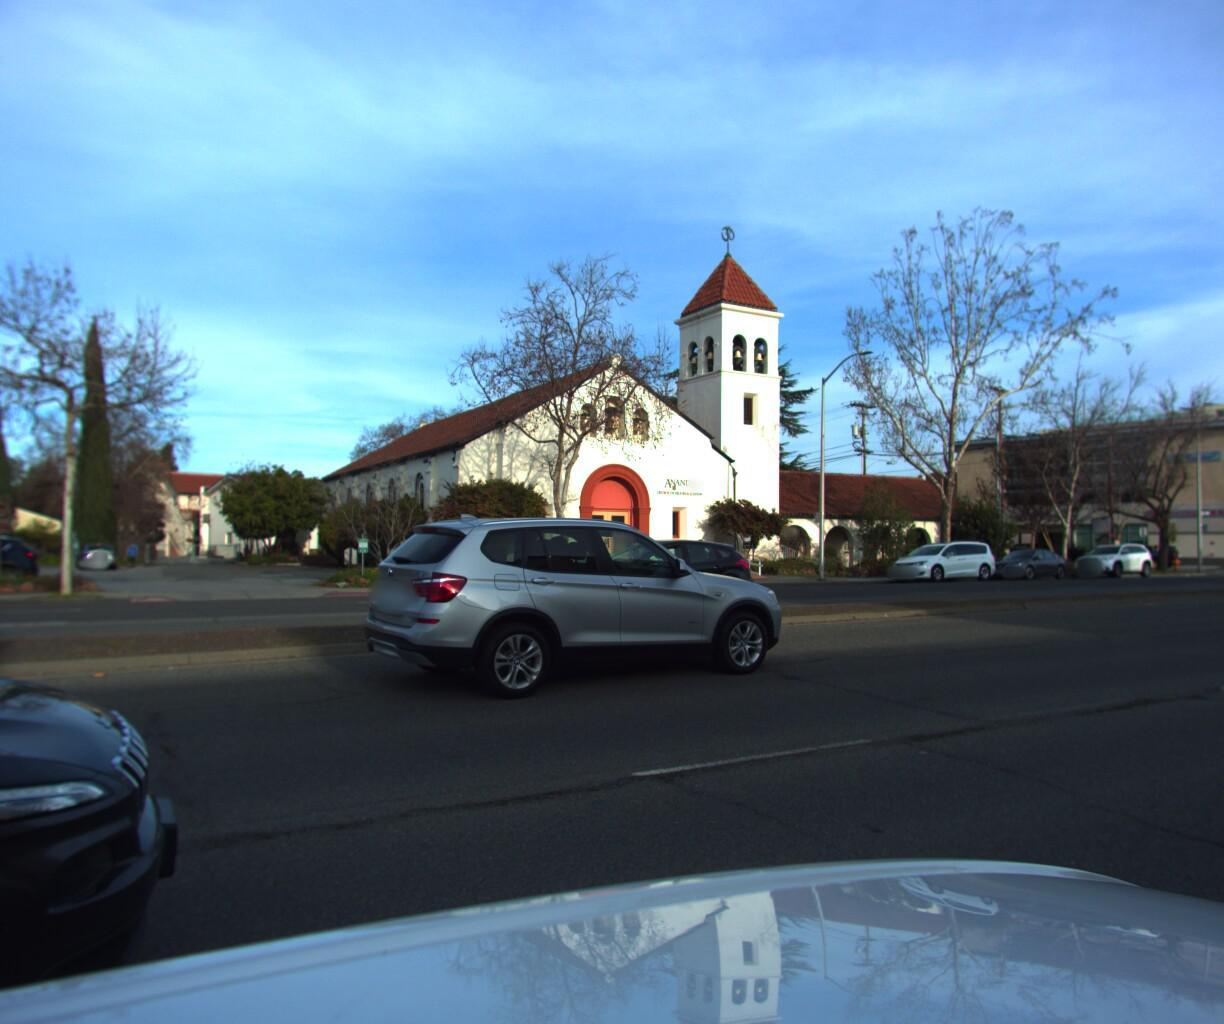car: (356, 506, 793, 714), (531, 538, 762, 624), (880, 537, 1001, 581), (1062, 537, 1154, 575), (974, 544, 1072, 579), (0, 532, 52, 595)
